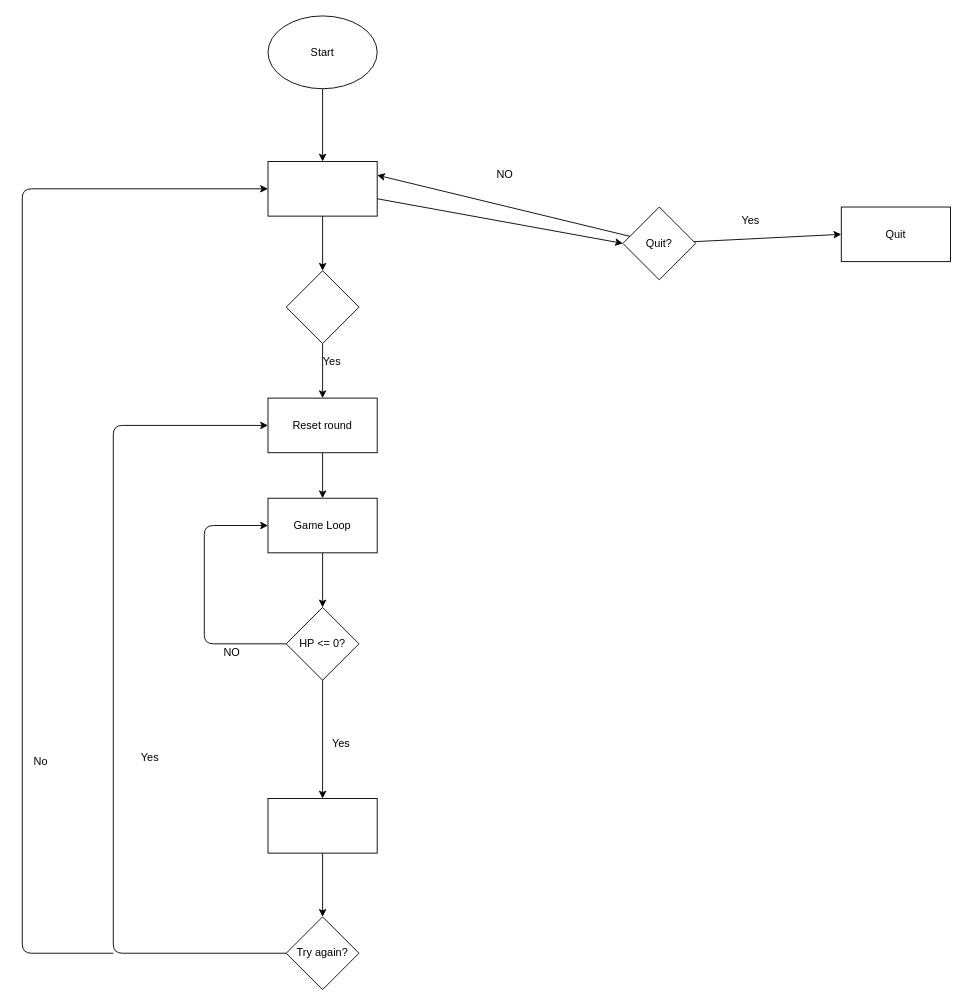
The diagram is 966 pixels wide and 1006 high, and some of its shapes have lost their labels. Here are the shapes that lost their labels. From the top down, the centre of each, then its label:
At [322,188]: "Main Menu".
At [322,307]: "Start game?".
At [322,825]: "Game over screen".
